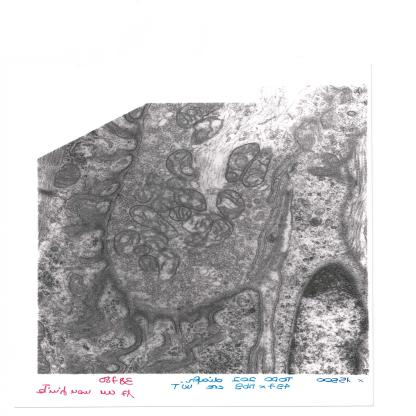mitochondria: (128, 204, 180, 238), (224, 143, 259, 183), (240, 147, 273, 187), (176, 104, 224, 130), (165, 150, 200, 183), (190, 117, 228, 147), (133, 173, 165, 204), (214, 190, 246, 219), (154, 249, 182, 281), (172, 189, 209, 212), (112, 230, 141, 257), (137, 230, 170, 252), (53, 164, 81, 189), (182, 214, 213, 235), (208, 219, 233, 242), (307, 166, 343, 178), (149, 198, 174, 214), (168, 206, 192, 221), (137, 255, 159, 271), (162, 177, 186, 191), (320, 152, 340, 167), (133, 245, 151, 257)
